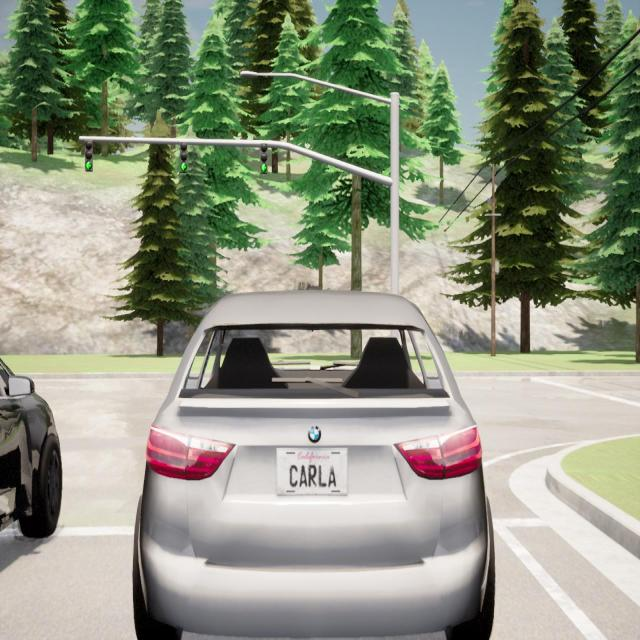Vehicle: (132, 291, 494, 638), (0, 353, 63, 539)
traffic_light: (259, 144, 269, 175), (179, 141, 188, 172), (85, 138, 93, 172)
